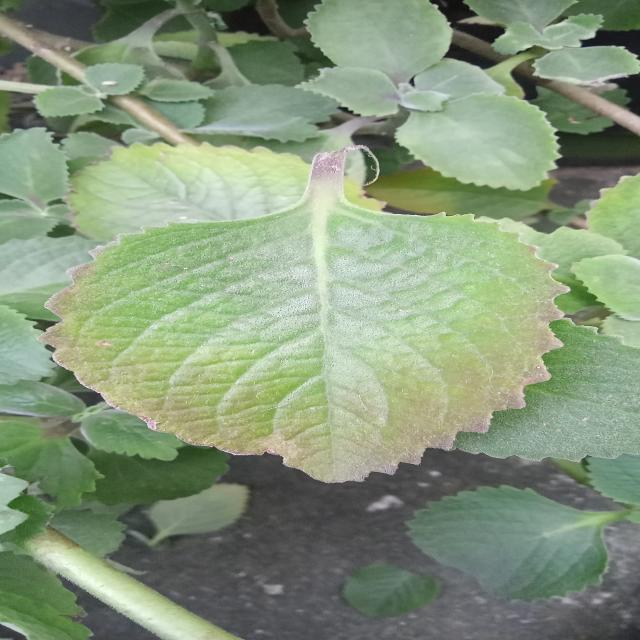Oregano: (32, 203, 602, 505)
